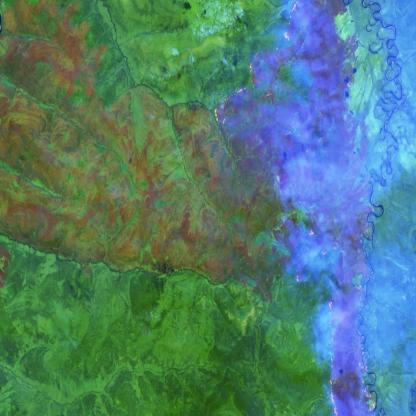fire: (293, 214, 379, 416), (212, 82, 239, 134), (245, 46, 268, 92), (283, 2, 303, 44)
